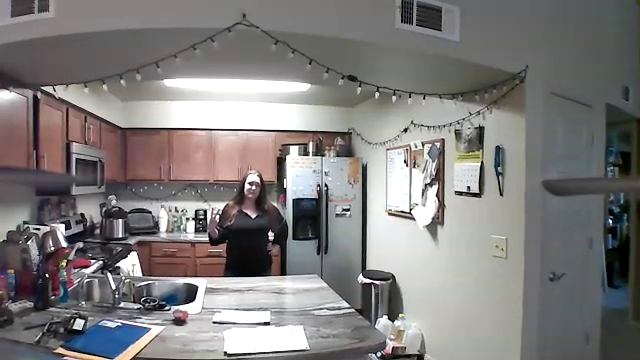peace: (203, 206, 227, 233)
